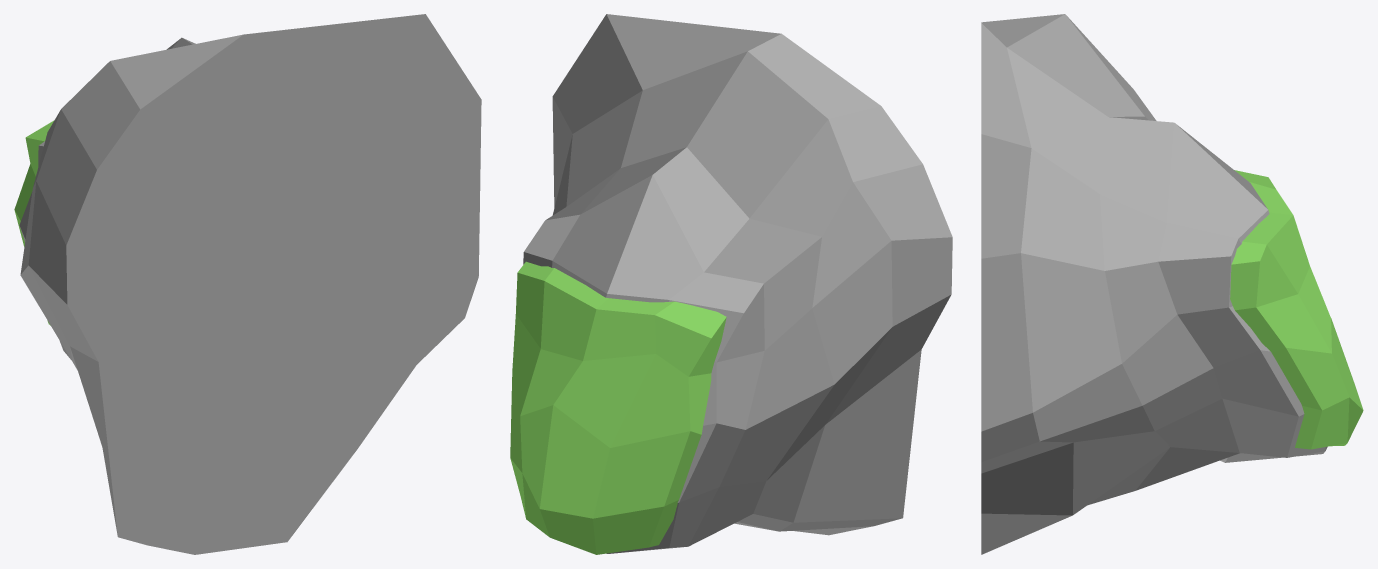
Rendered from Rock_2_Mossy.fbx.
3 views of the same model, side by side, from view 1: azimuth 30°, elevation 25°; view 2: azimuth 150°, elevation 25°; view 3: azimuth 270°, elevation 25° (orthographic). The views are drawn at different scales.
Visible parts, largest first — view 1: Rock_2_Mossy; view 2: Rock_2_Mossy; view 3: Rock_2_Mossy.
Boxes of the visible parts, bbox=[...] form: Rock_2_Mossy: bbox=[14, 14, 481, 554]; Rock_2_Mossy: bbox=[510, 14, 952, 554]; Rock_2_Mossy: bbox=[981, 14, 1363, 554].
Size of the model in its own units: 472 by 564 by 382.
